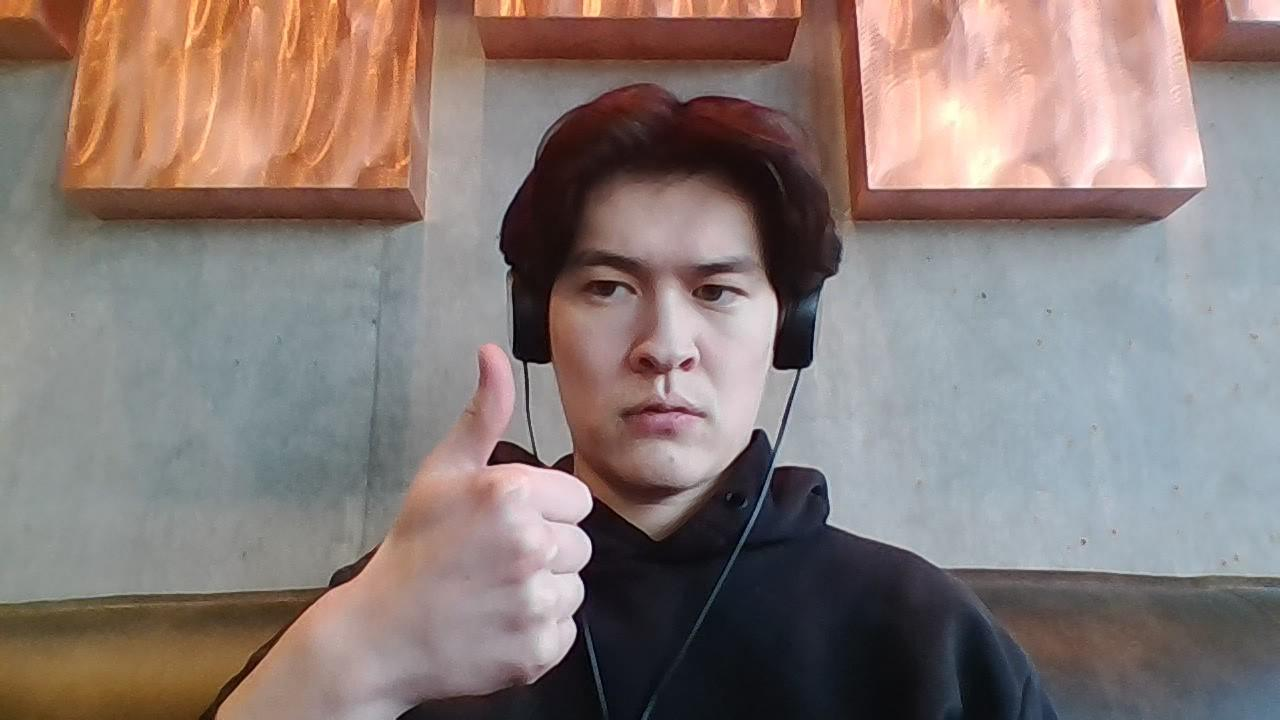thumbsUp: (361, 341, 594, 695)
